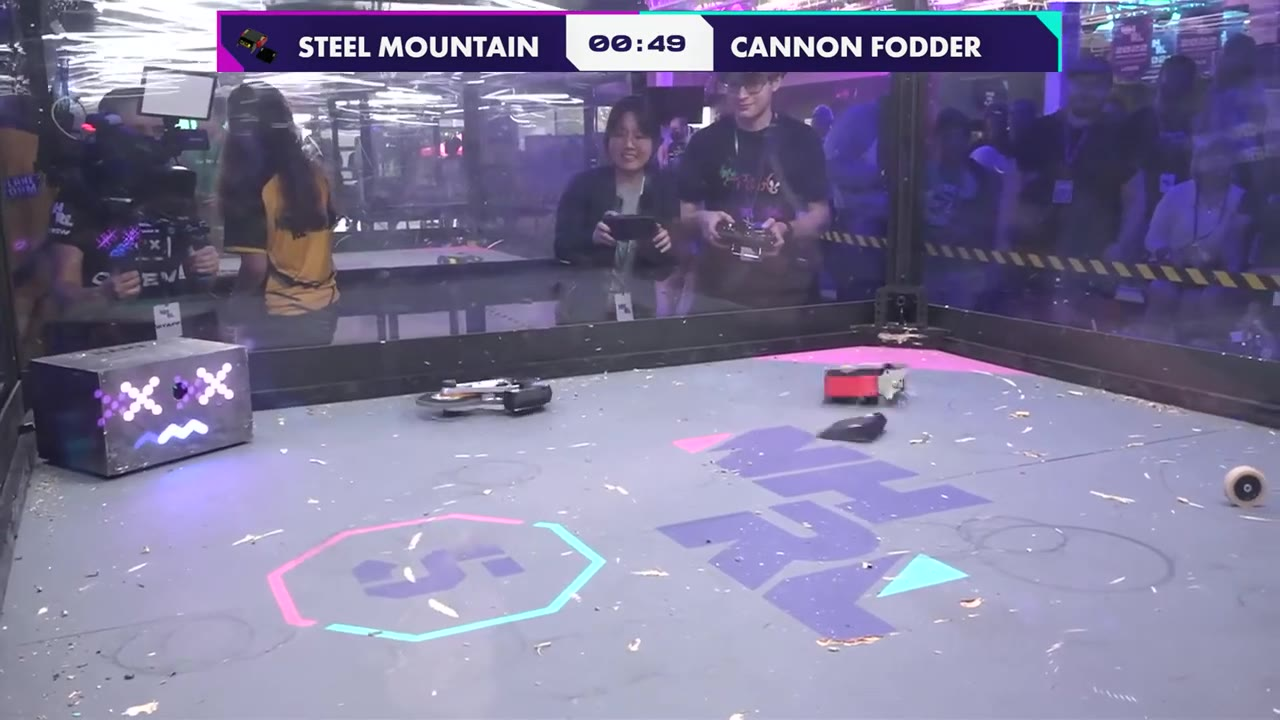combatbot: (414, 378, 554, 419), (817, 363, 910, 407)
housebot: (29, 336, 255, 477)
minibot: (817, 411, 888, 443)
wheel: (1222, 470, 1264, 506)
